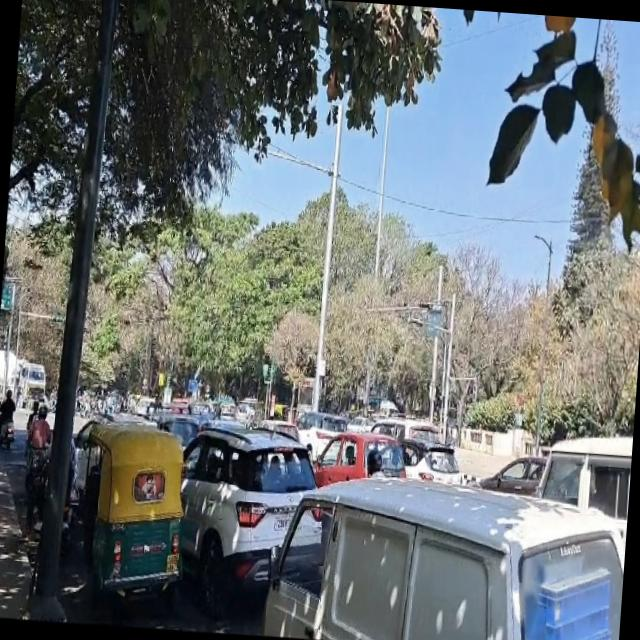cars: (261, 473, 629, 640), (162, 424, 331, 623), (310, 433, 410, 495)
